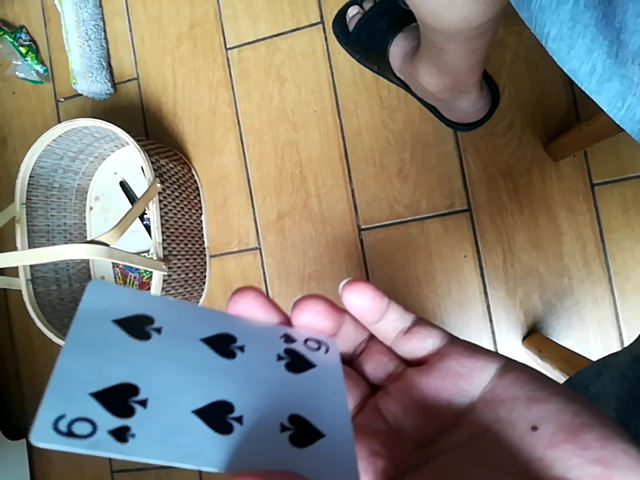ht 6: (37, 277, 371, 479)
